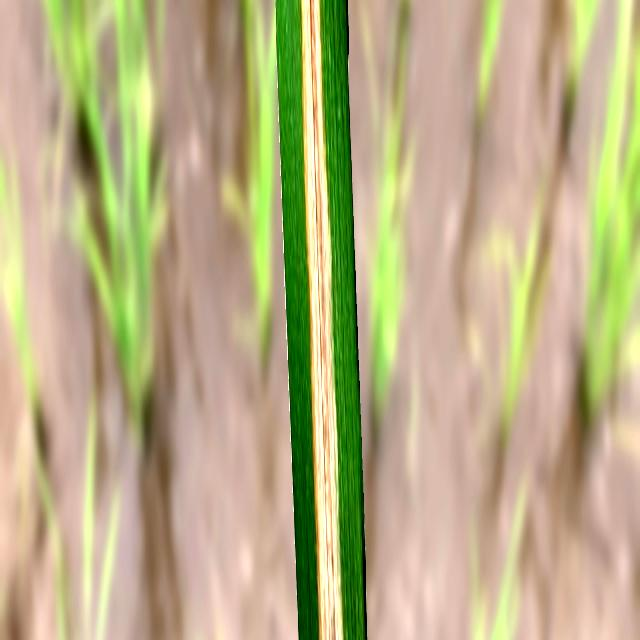BLB: (300, 0, 343, 640)
